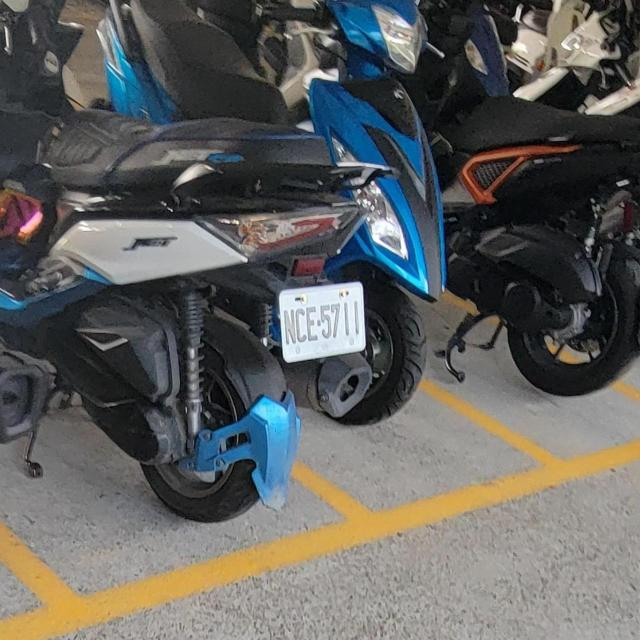W: (274, 274, 371, 370)
